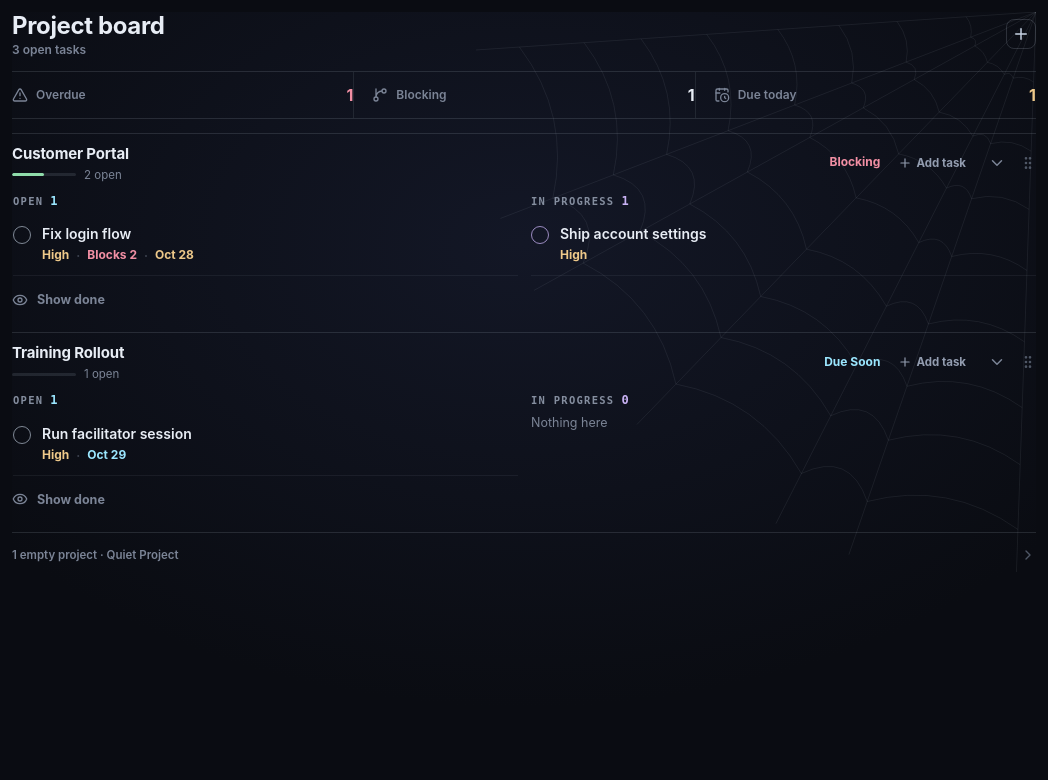
Test case: DashboardPage › lazily fetches a lane completed archive behind the Done toggle
Check: the heading "Project board" is shown, box 12,11 -> 164,40
Click the button "Show done" below "Blocks 2".
click(71, 300)  # box 12,276 -> 1036,316
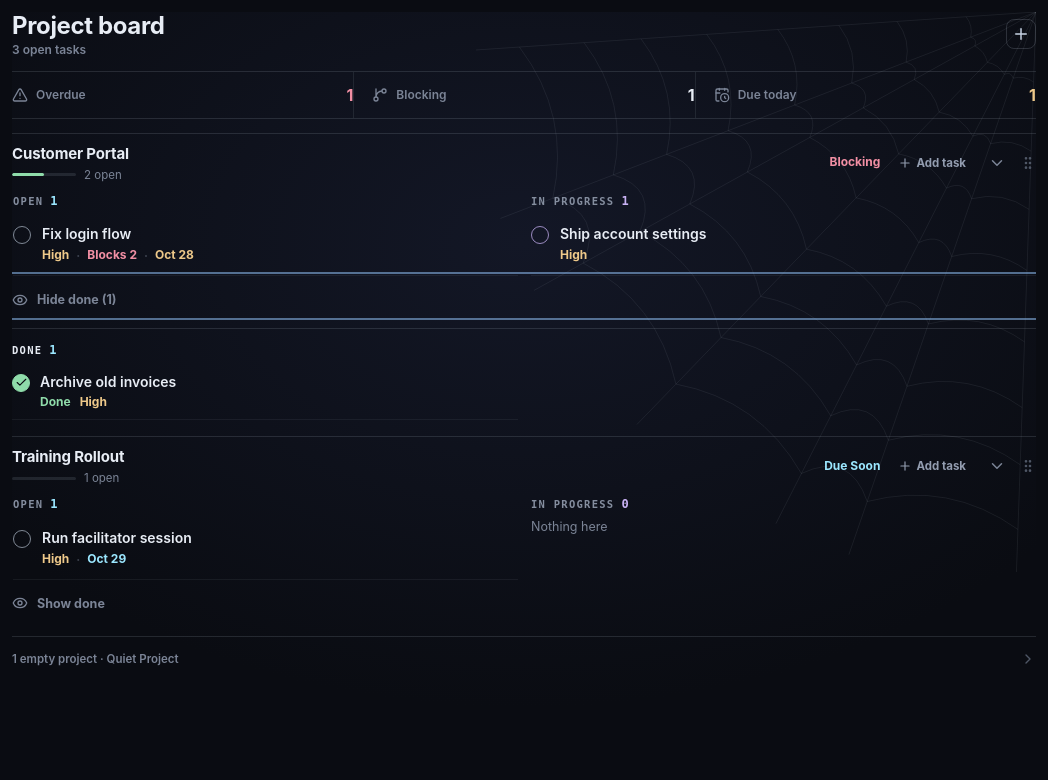
Check: the text "Archive old invoices" is shown, box 40,373 -> 176,390
Check: the button "Hide done (1)" is shown, box 12,276 -> 1036,316
